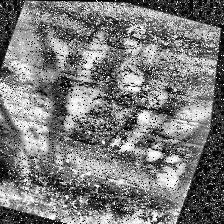pothole: (15, 50, 172, 160)
